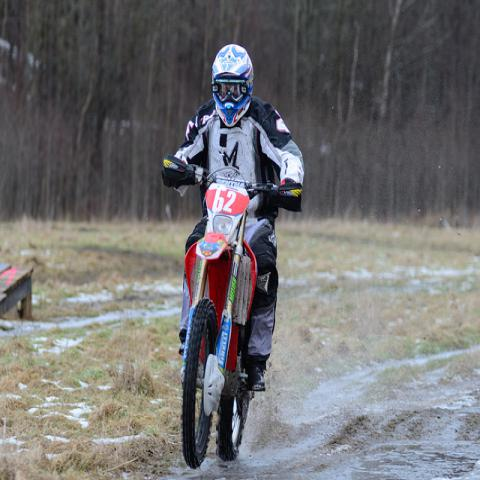motorcycle: (176, 158, 290, 474)
